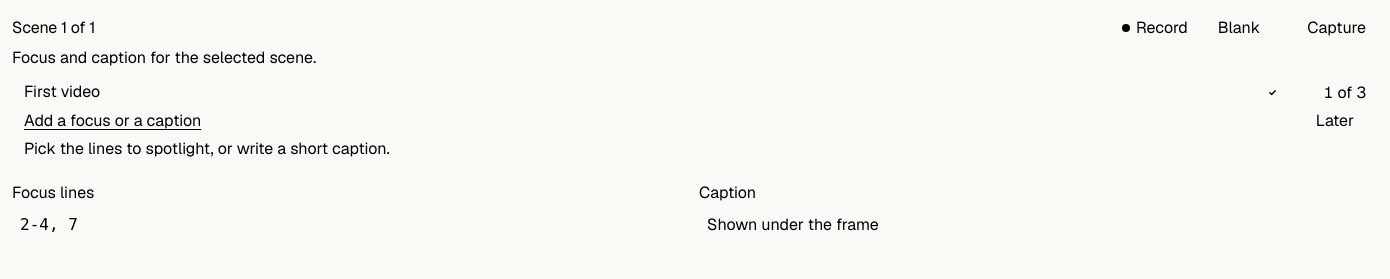
Test: the studio's typed fields › the focus field › says a line past the last one is past it, not that the numbers are wrong
In the field named "Scene 1 focus lines": (352, 224) [12,210,691,238], type "9"
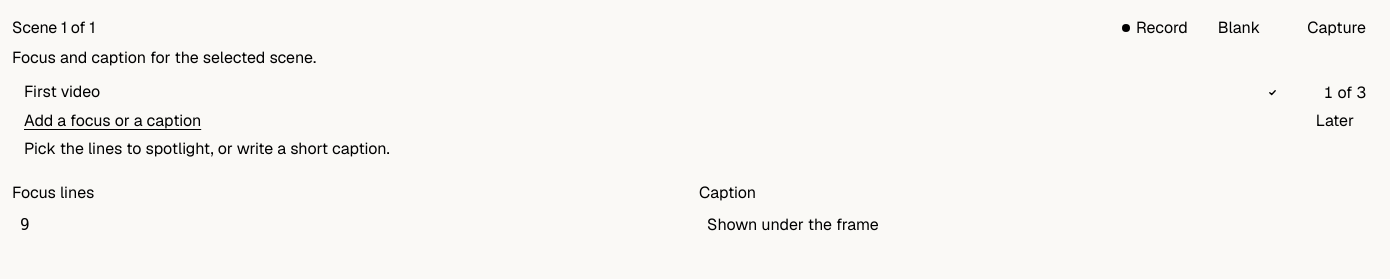
Leave the field named "Scene 1 focus lines", box [12,210,691,238]
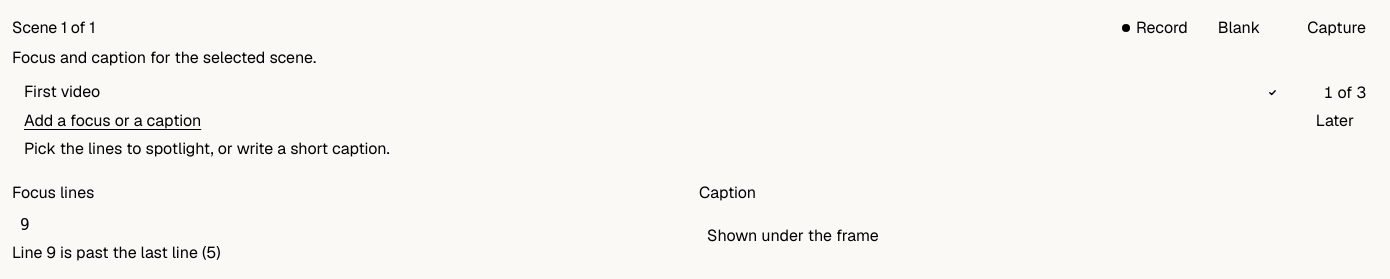
Check: the text "Use line numbers, like 2-4, 7" is not shown
Replace the text in the field named "Scene 1 focus lines" with "abc": (352, 224) [12,210,691,238]
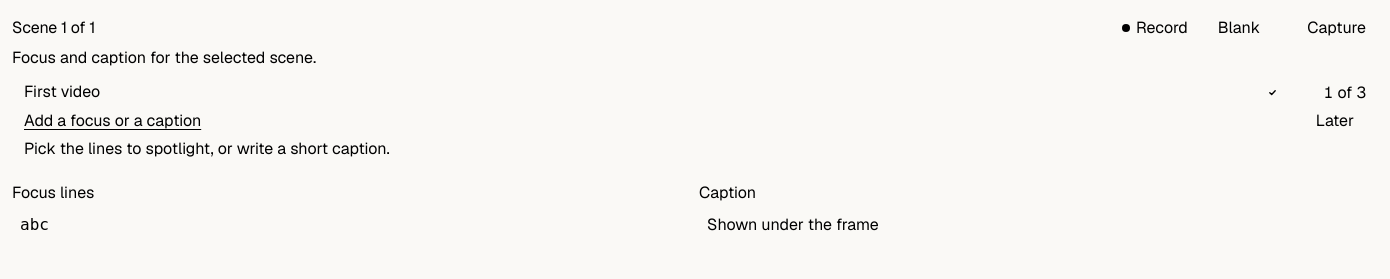
Leave the field named "Scene 1 focus lines", box [12,210,691,238]
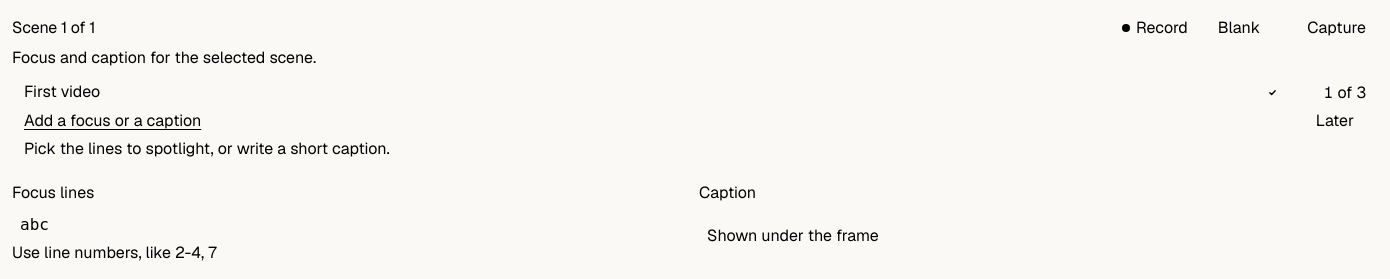
Check: the text "Use line numbers, like 2-4, 7" is shown, box [12,242,217,262]
